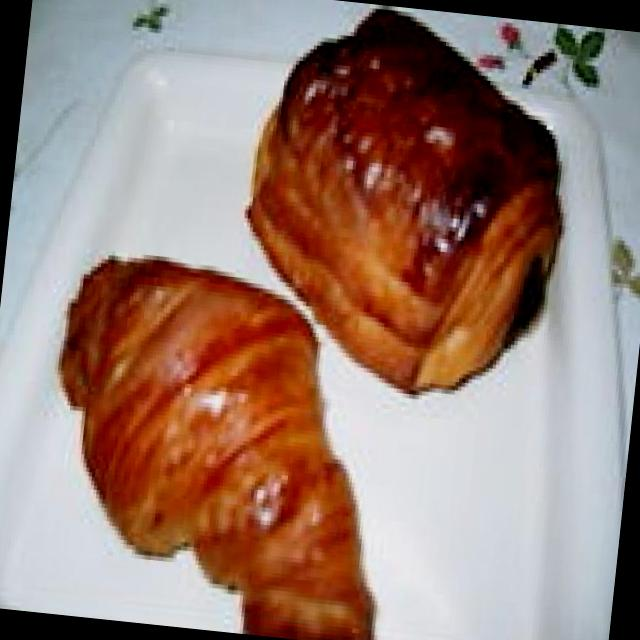Croissant: (38, 266, 377, 640)
